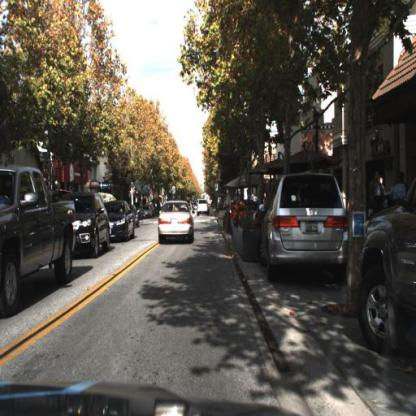car: (1, 165, 76, 318), (258, 171, 350, 286), (359, 175, 416, 356), (74, 190, 112, 263), (158, 201, 198, 245), (111, 198, 136, 248), (196, 198, 211, 218)
